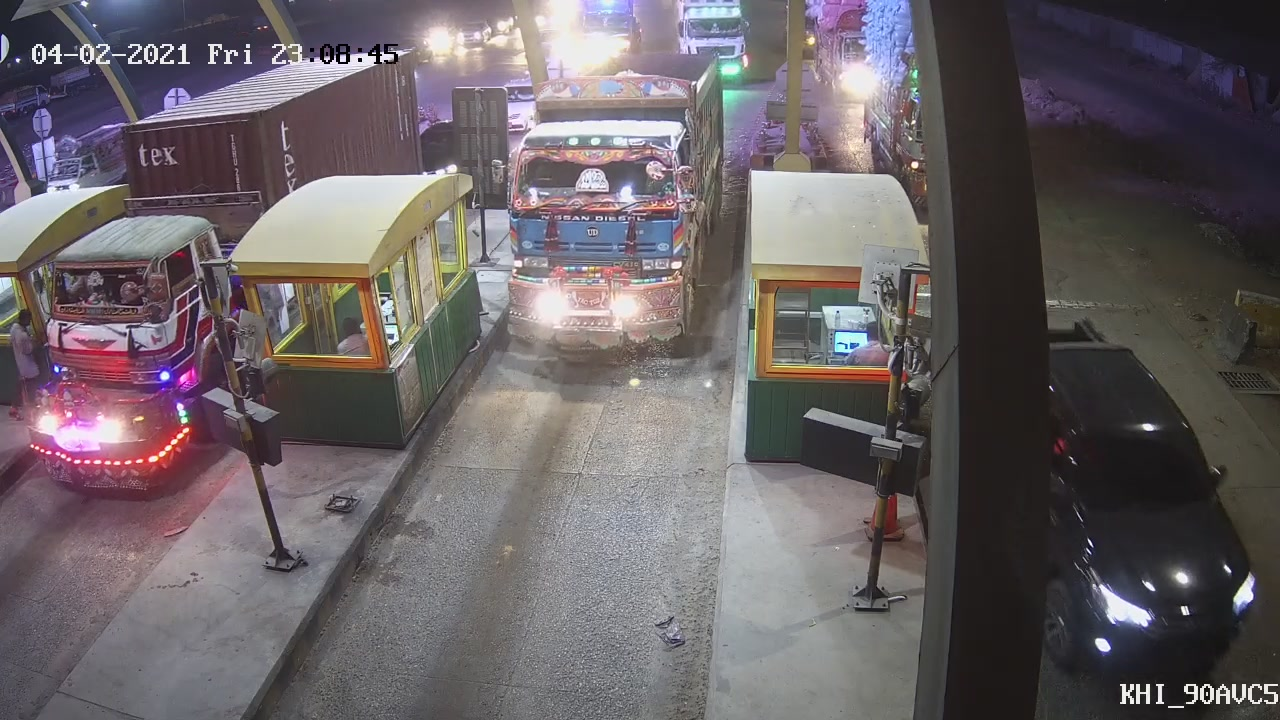F5: (489, 54, 731, 354)
